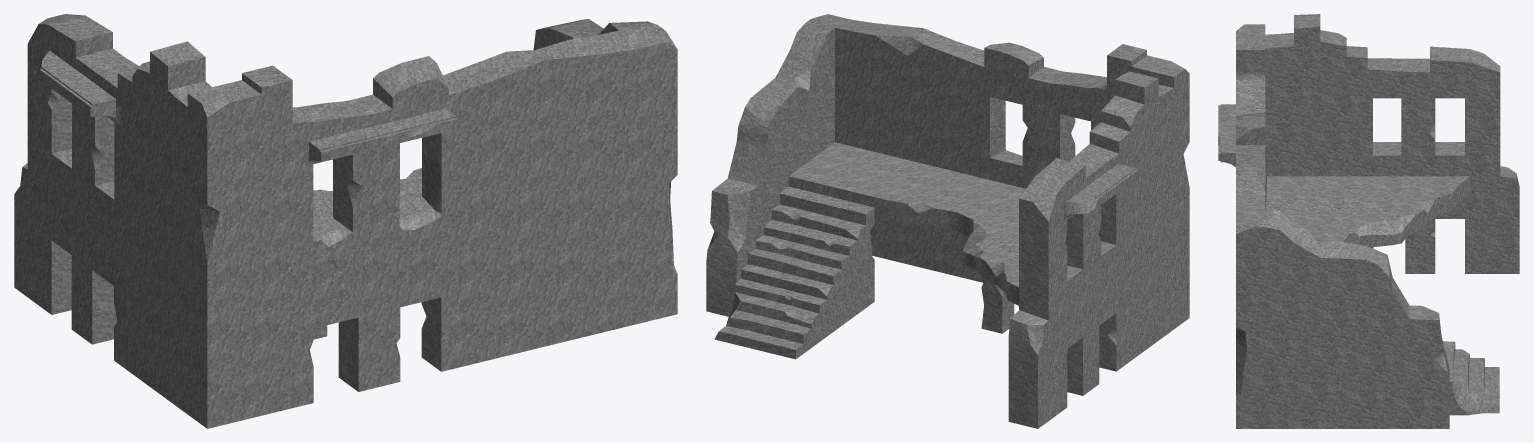
Rendered from materials_3_building_7.fbx.
3 renders of one model, left to right at view 1: azimuth 30°, elevation 25°; view 2: azimuth 150°, elevation 25°; view 3: azimuth 270°, elevation 25°, orthographic. The views are drawn at different scales.
Parts seen in each view (by area): view 1: materials_3_building_7; view 2: materials_3_building_7; view 3: materials_3_building_7.
Boxes of the visible parts, x1=… form: materials_3_building_7: x1=14, y1=14, x2=677, y2=428; materials_3_building_7: x1=706, y1=14, x2=1189, y2=428; materials_3_building_7: x1=1218, y1=14, x2=1519, y2=428.
Size of the model in its own units: 1237 by 803 by 887.
